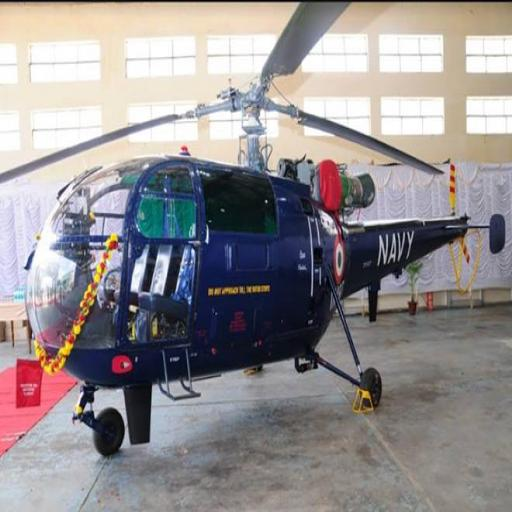helicopter: (14, 31, 505, 471)
